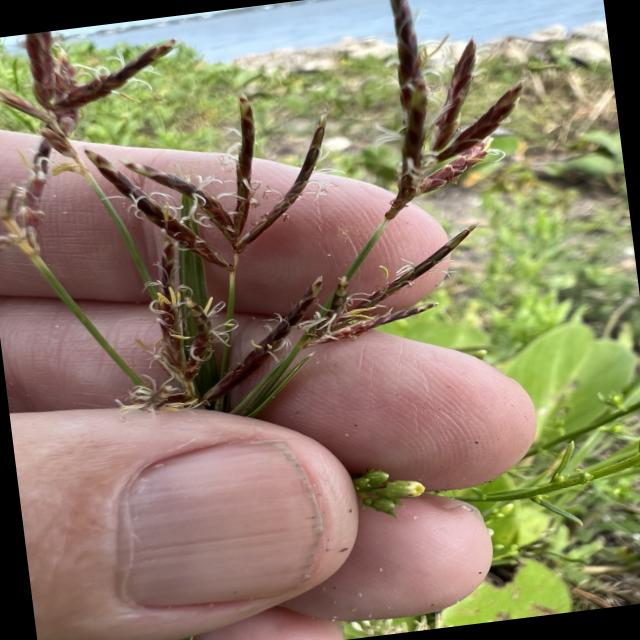cyperus: (0, 0, 567, 446)
